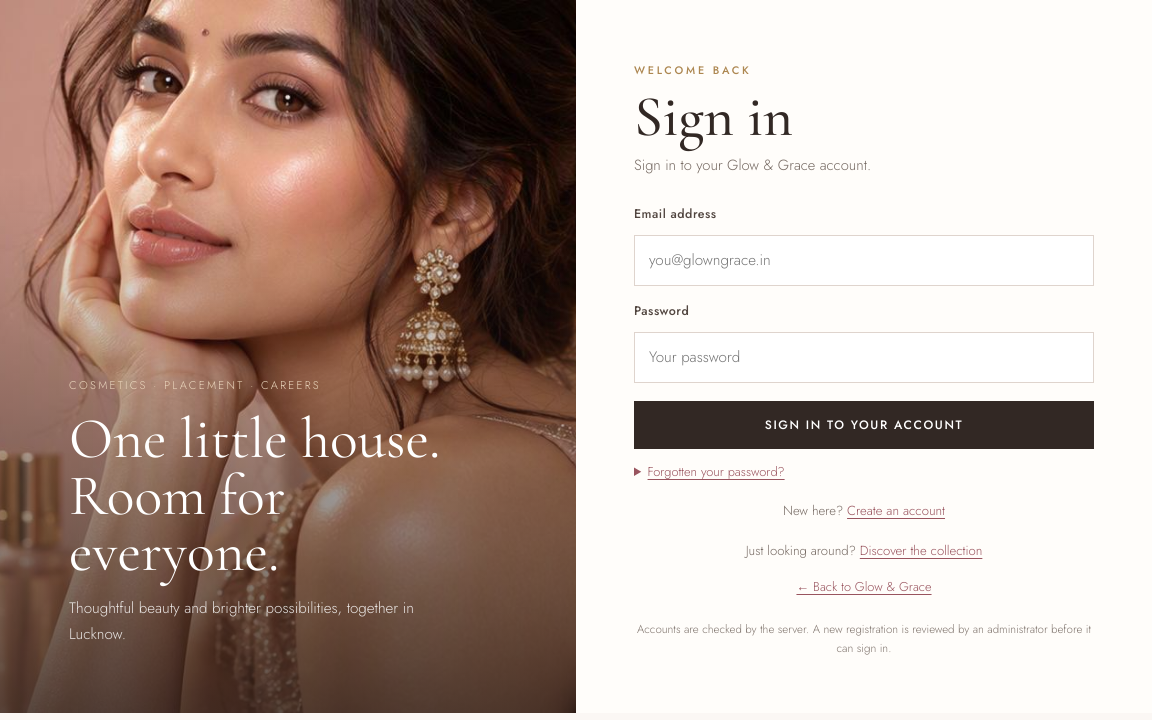
Test: forgotten password and reset › surfaces a server outage rather than inventing a reason
The image size is (1152, 720).
// A 503 must report the outage, never a verdict on the password.
In the field labelled "Email address": (864, 260) [634,235,1094,286], type "admin@glowngrace.in"
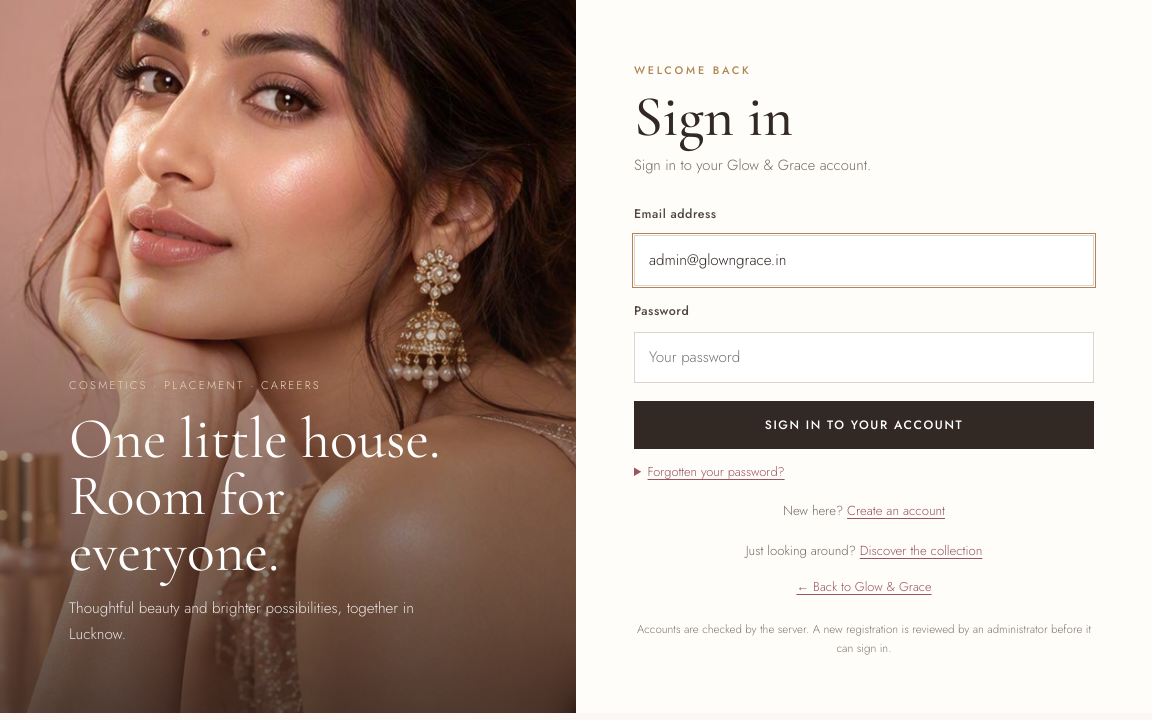
In the password field labelled "Password": (864, 358) [634,332,1094,383], type "oops-not-the-password"
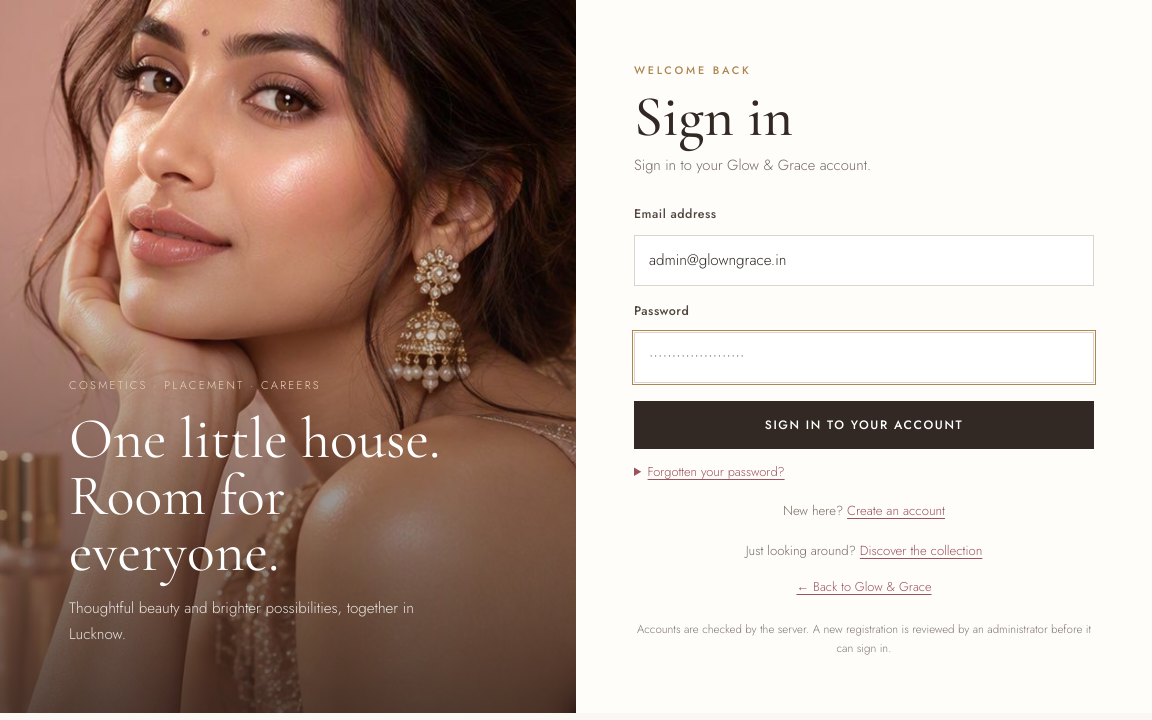
Click the button "Sign in to your account": (864, 426) [634,402,1094,450]
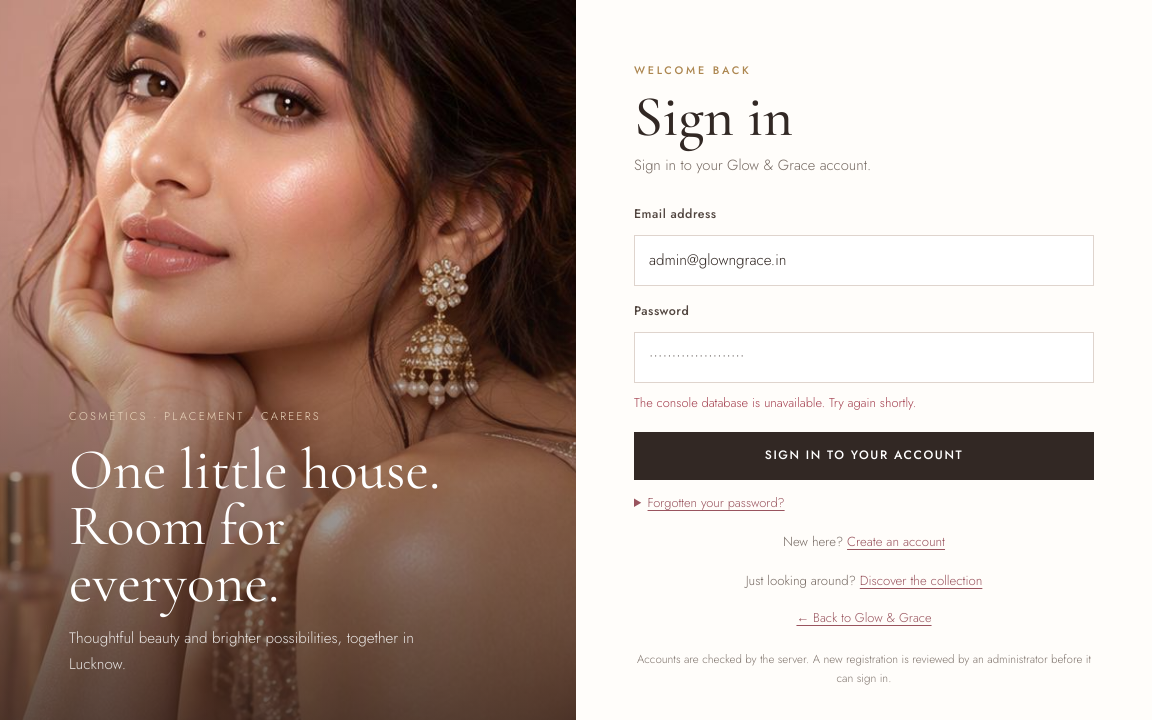
Expected: the message does not show "oops-not-the-password", [634,394,916,412]
Now the message shows "The console database is unavailable.", box [634,394,916,412]
